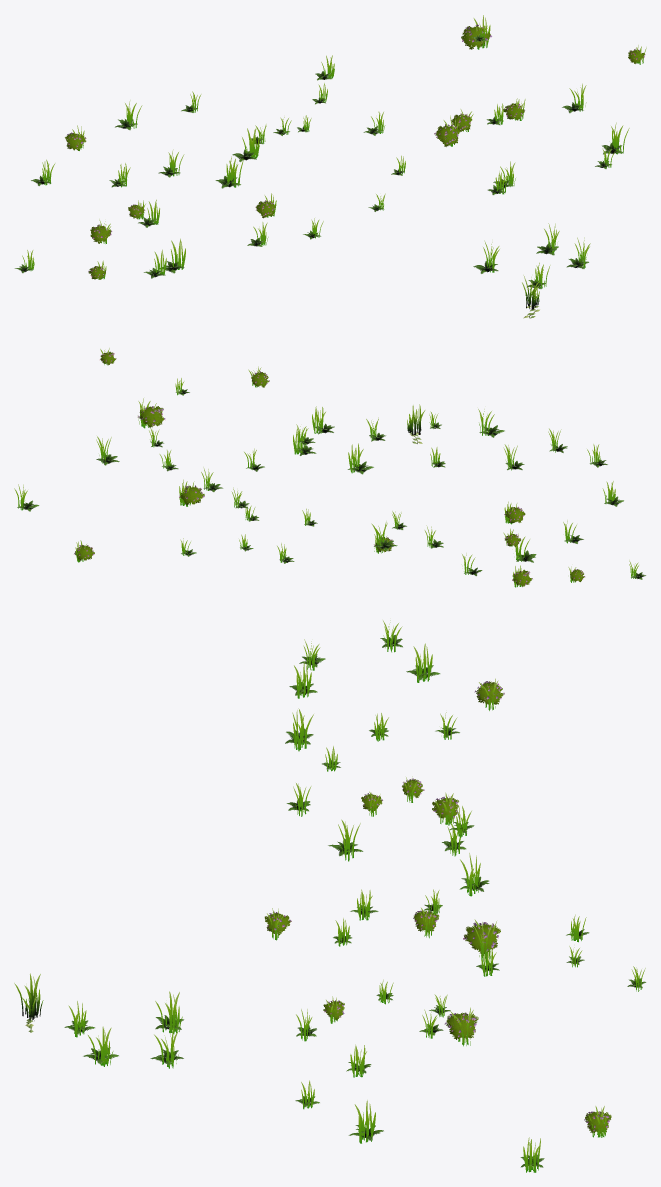
File: Plane_Greenery.glb
3 renders of one model, top to bottom at view 1: azimuth 30°, elevation 25°; view 2: azimuth 150°, elevation 25°; view 3: azimuth 270°, elevation 25°, orthographic. The views are drawn at different scales.
Parts seen in each view (by area): view 1: Patch_011, Patch_035; view 2: Patch_011, Patch_035, Patch_042, Patch_038; view 3: Patch_011, Patch_035.
Part boxes in pixels (x1,y1,x2,y2): Patch_011: (461,15,491,49); Patch_035: (434,115,460,146); Patch_011: (137,398,165,428); Patch_035: (179,479,204,506); Patch_042: (407,404,425,443); Patch_038: (347,443,374,474); Patch_011: (463,919,500,962); Patch_035: (444,1007,478,1046).
Size of the model in its own units: 23.94 by 6.47 by 15.89.
Materials: 7 (4 with a texture image).
